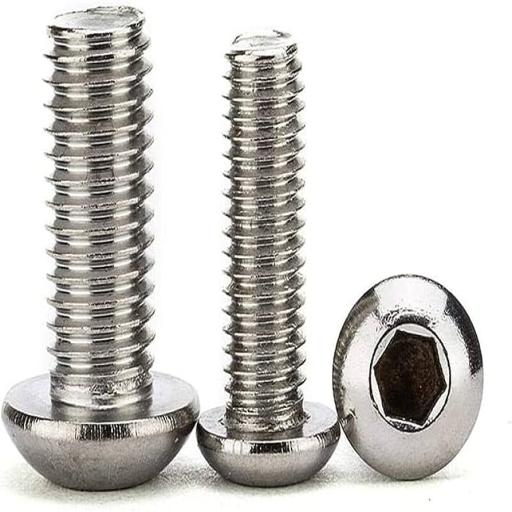Hex-Allen: (328, 272, 486, 475)
